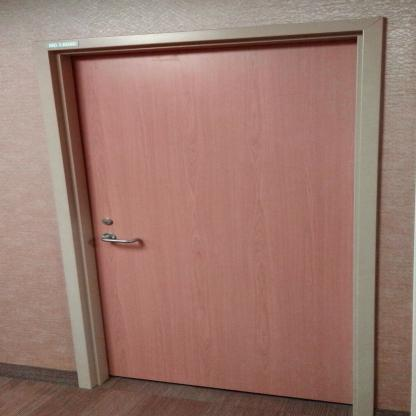door: (60, 35, 366, 390)
lever: (104, 235, 138, 248)
